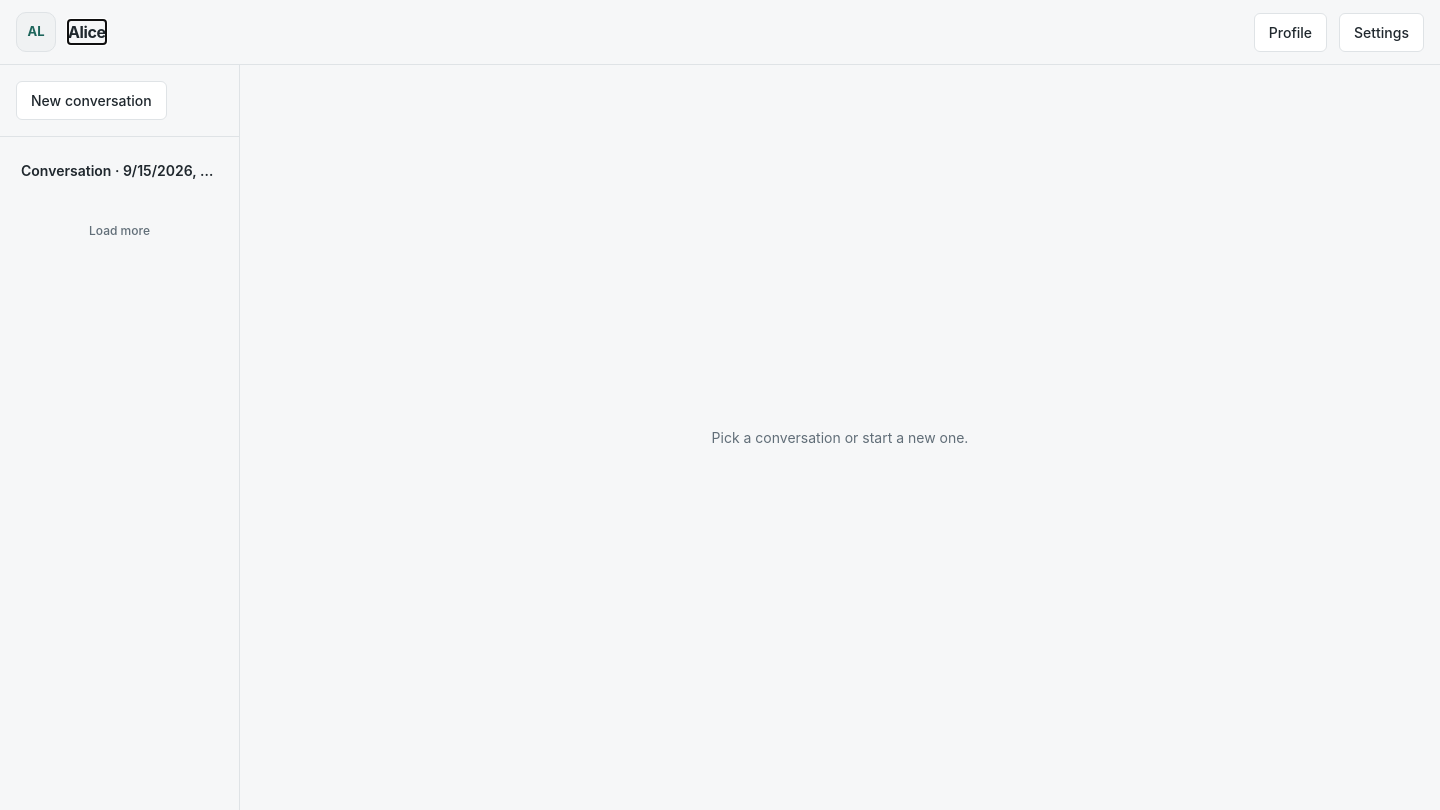
Test: chat view › appends a second page on Load more and hides the button at the end
The width and height of the screenshot is (1440, 810).
expect the number of buttons "Conversation · 9/15/2026, 12:00:00 AM" is 1: met, box [8,145,231,196]
Click the button "Load more" at (120, 231), box [80,212,159,250]
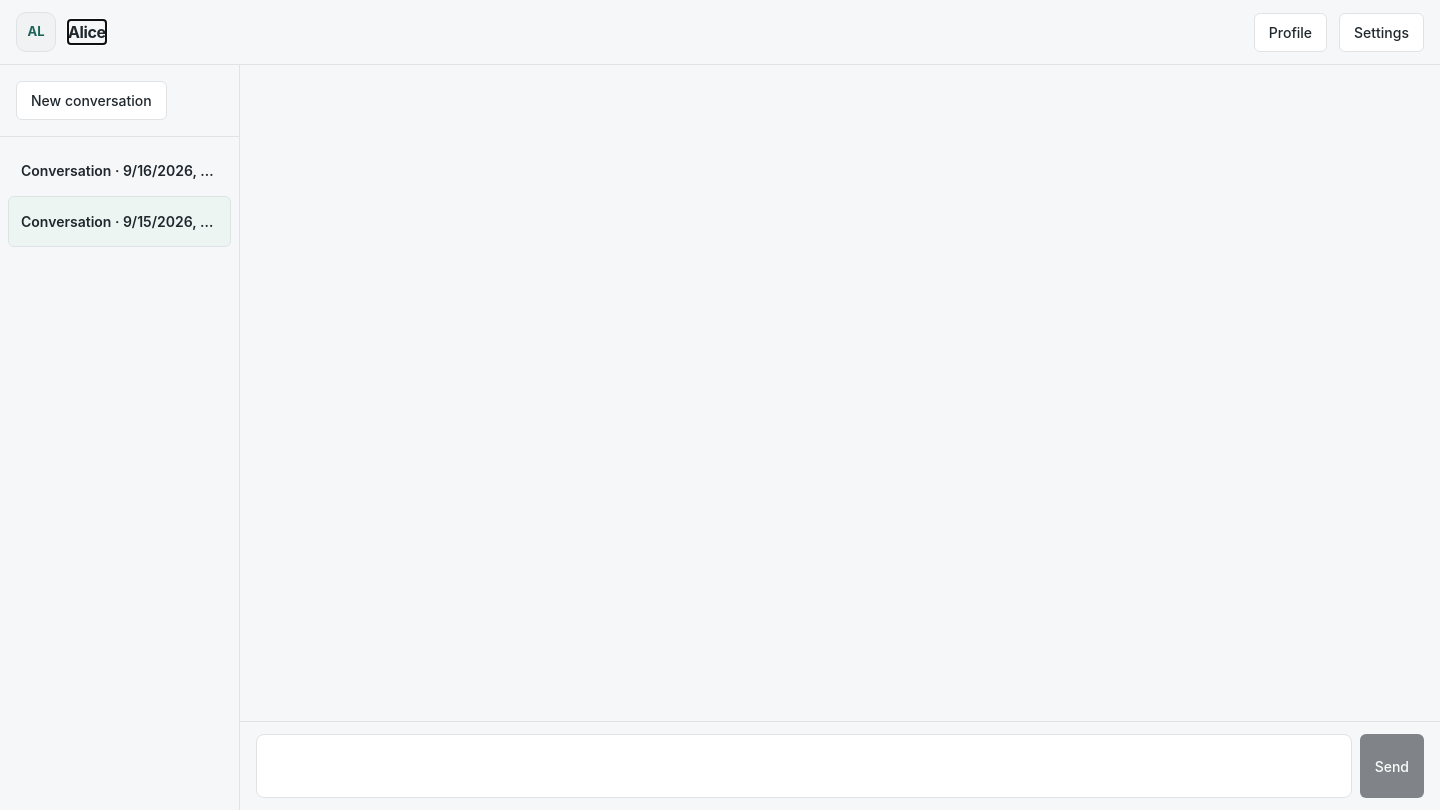
expect the number of buttons "Conversation · 9/16/2026, 12:00:00 AM" is 2: met, box [8,145,231,196]; [8,196,231,247]
expect the button "Load more" is gone: met
